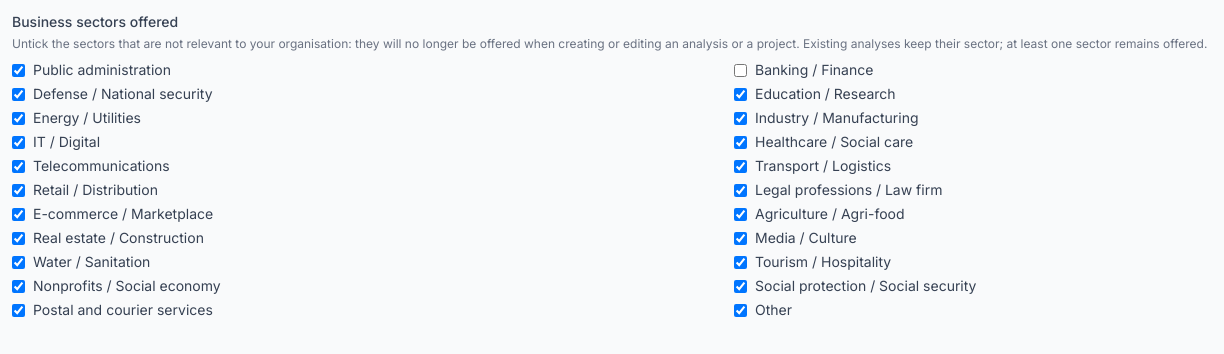
Scenario: SecteursMasquesEditor › échec : l’état précédent est rétabli et signalé
The image size is (1224, 354).
Click the checkbox labelled "Banking / Finance": (740, 70) [734,64,747,76]
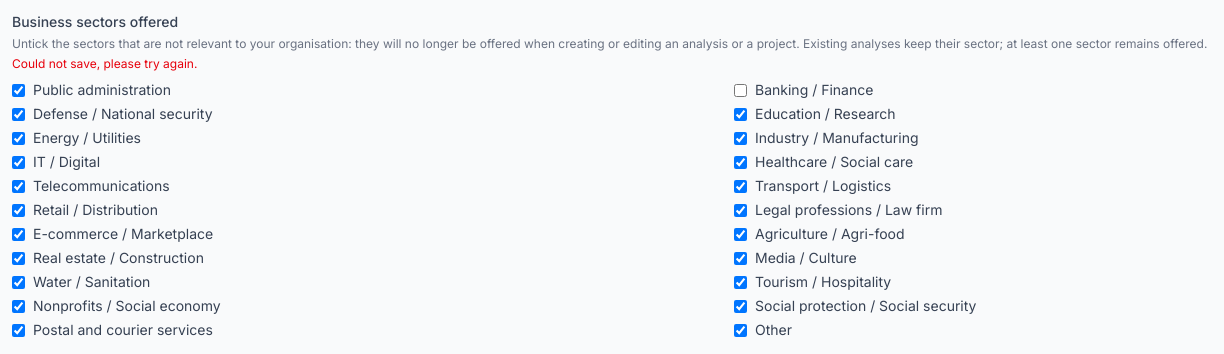
Expected: the checkbox labelled "Banking / Finance" is not checked, [734,84,747,96]
Expected: the message "Could not save, please try again." is shown, [12,56,197,71]
